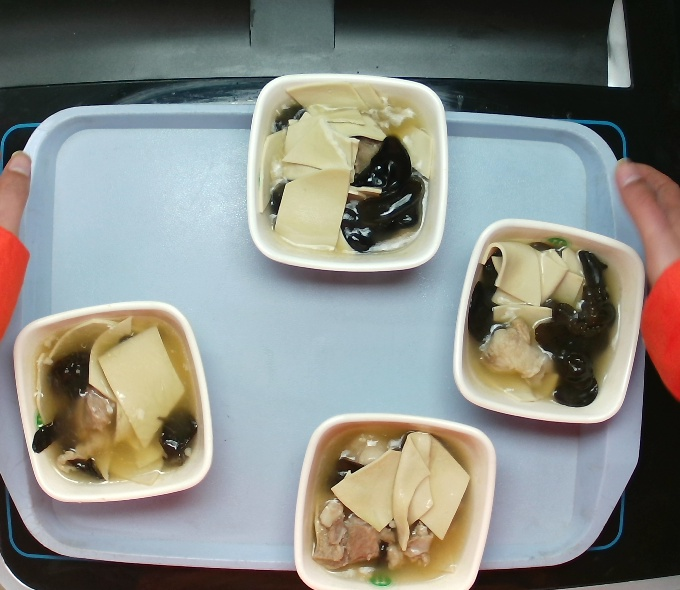wcq-QianZhangMuErTang: (15, 293, 216, 513), (259, 74, 441, 273), (462, 222, 625, 421), (310, 425, 476, 579)
